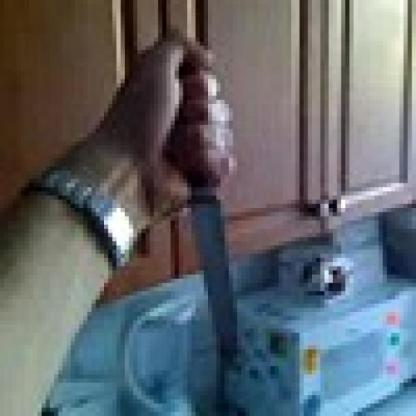Knife: (171, 46, 242, 354)
